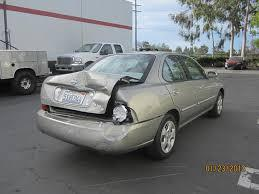boot-dent: (53, 73, 121, 113)
rear-bumper-dent: (88, 119, 148, 151)
